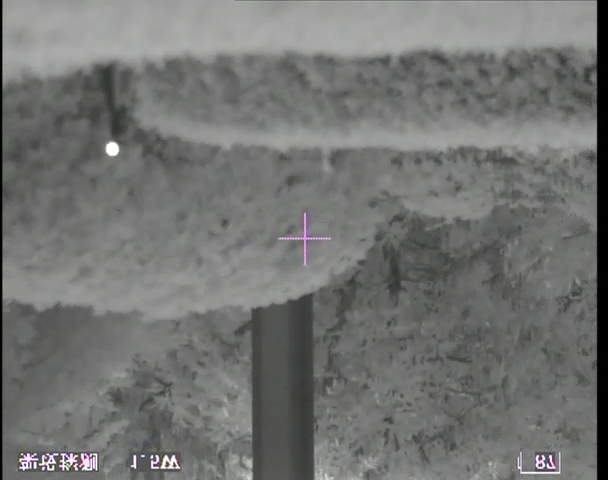my: (104, 140, 120, 158)
